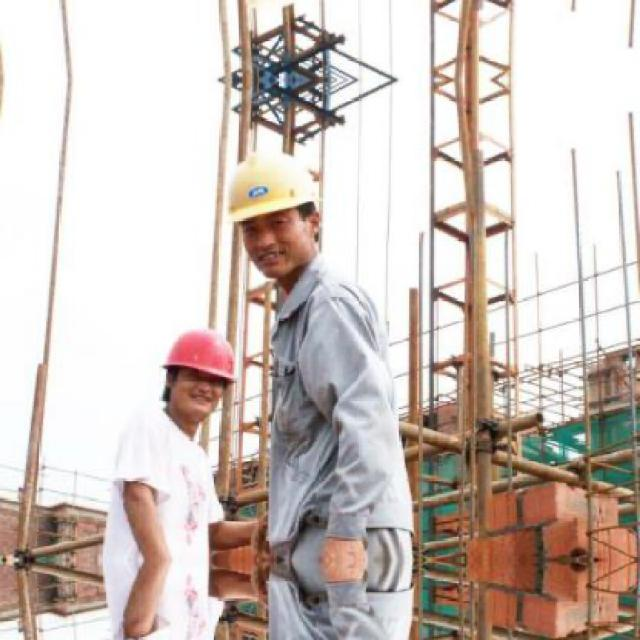helmet: (218, 121, 332, 297), (148, 317, 243, 432), (217, 0, 332, 40)
